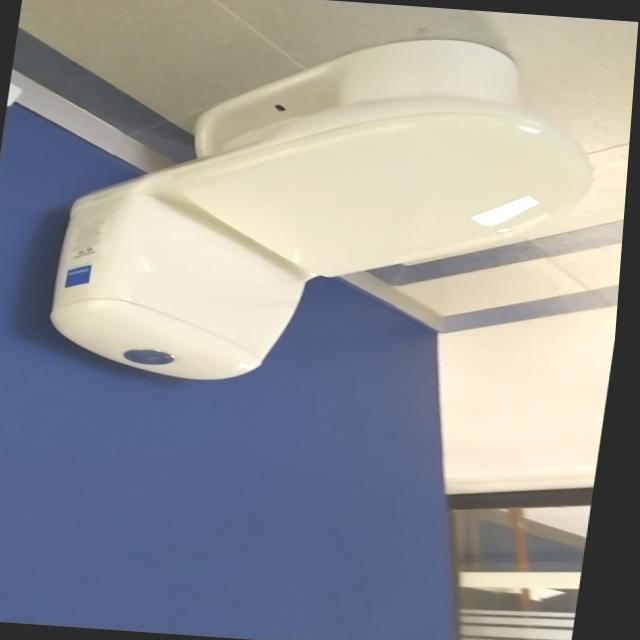toilet: (44, 14, 615, 407)
